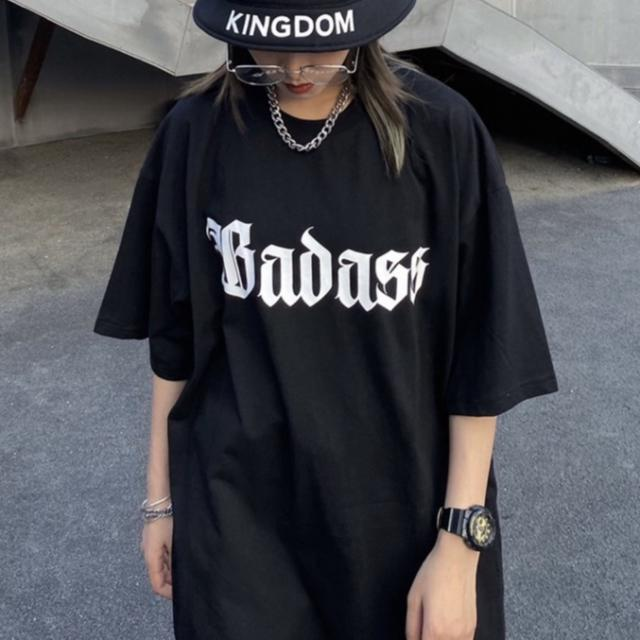Shirt: (92, 56, 558, 636)
